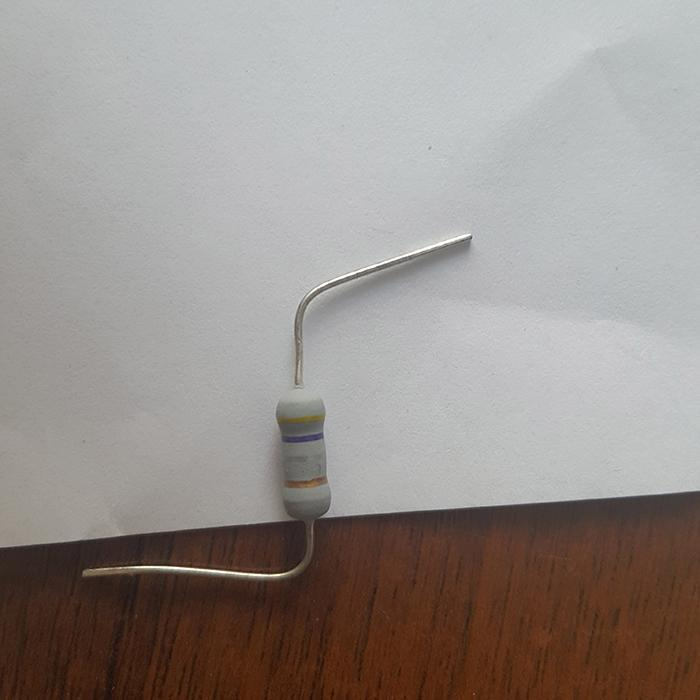resistor: (274, 386, 332, 520)
